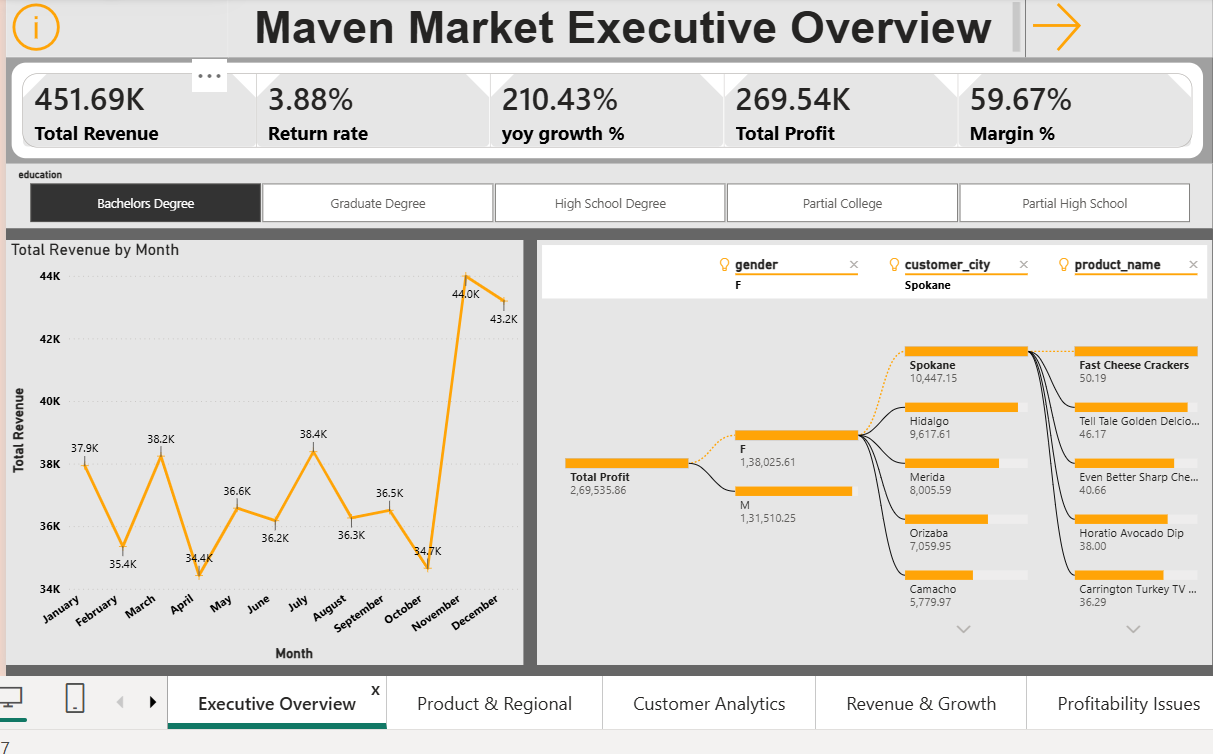

Layout of this report page (visuals, bound fields, positions):
{"tool":"powerbi","page":{"name":"Executive Overview","canvas":[1280,720],"ordinal":0},"visuals":[{"type":"cardVisual","fields":{"Data":["Transactions_1997&1998.Total revenue tra","MavenMarket_Calendar.Return rate","MavenMarket_Calendar.yoy growth %","Transactions_1997&1998.Total Profit","MavenMarket_Calendar.Margin %"]},"box":[0,63.9,1279.5,113],"z":0},{"type":"textbox","box":[235.9,0,845.3,63.9],"z":1000},{"type":"lineChart","fields":{"Category":["MavenMarket_Calendar.Date.Variation.Date Hierarchy.Year","MavenMarket_Calendar.Date.Variation.Date Hierarchy.Quarter","MavenMarket_Calendar.Date.Variation.Date Hierarchy.Month","MavenMarket_Calendar.Date.Variation.Date Hierarchy.Day"],"Y":["Transactions_1997&1998.Total revenue"]},"box":[0,257.2,548.8,450.5],"z":2000},{"type":"decompositionTreeVisual","fields":{"ExplainBy":["MavenMarket_Customers.gender","MavenMarket_Customers.customer_city","MavenMarket_Products.product_name"],"Analyze":["Transactions_1997&1998.Total Profit"]},"box":[563.6,257.2,715.9,450.5],"z":3000},{"type":"slicer","fields":{"Values":["MavenMarket_Customers.education"]},"box":[0,176.9,1279.5,68.8],"z":4000},{"type":"actionButton","box":[1081.2,0,198.2,63.9],"z":5000},{"type":"actionButton","box":[0,0,235.9,63.9],"z":6000}]}

Visuals, with their boxes on the page's 1280x720 design canvas (x1, y1, x2, y2). These are canvas units, not pixel positions in the 1213x754 screenshot, which may show the page scaled, cropped or inside an application window:
cardVisual - Transactions_1997&1998.Total revenue tra x MavenMarket_Calendar.Return rate: rect(0, 64, 1280, 177)
textbox: rect(236, 0, 1081, 64)
lineChart - MavenMarket_Calendar.Date.Variation.Date Hierarchy.Year x MavenMarket_Calendar.Date.Variation.Date Hierarchy.Quarter: rect(0, 257, 549, 708)
decompositionTreeVisual - MavenMarket_Customers.gender x MavenMarket_Customers.customer_city: rect(564, 257, 1280, 708)
slicer - MavenMarket_Customers.education: rect(0, 177, 1280, 246)
actionButton: rect(1081, 0, 1279, 64)
actionButton: rect(0, 0, 236, 64)
